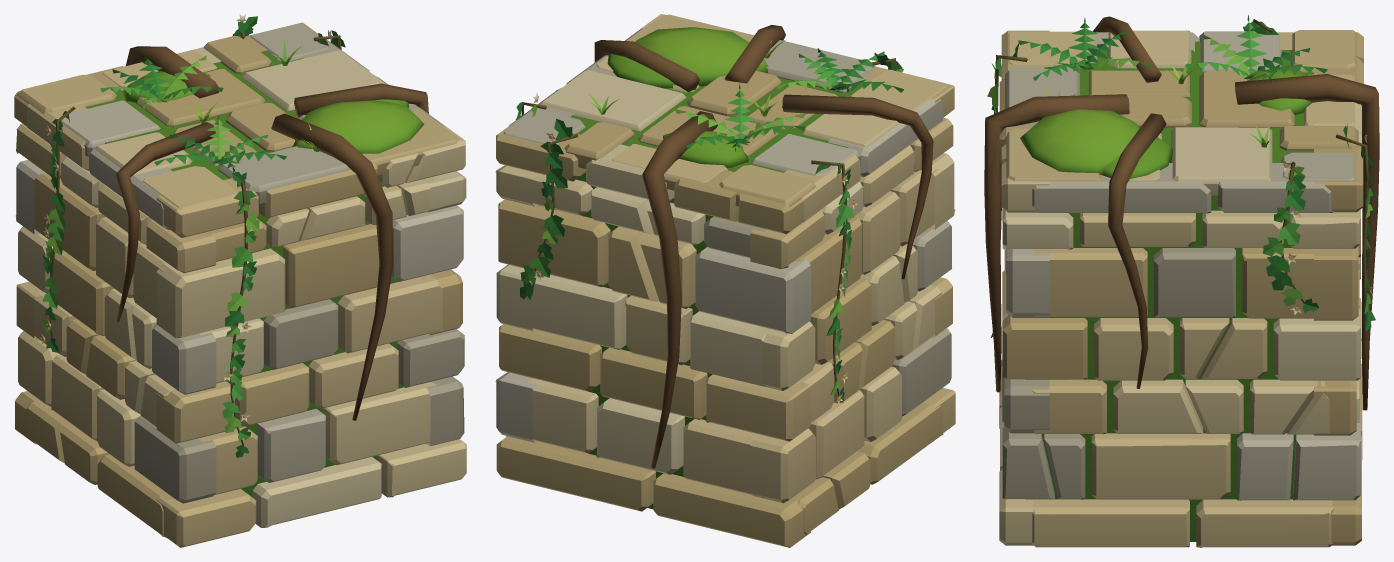
The model's file is wall_c.fbx.
3 views of the same model, side by side, from view 1: azimuth 30°, elevation 25°; view 2: azimuth 150°, elevation 25°; view 3: azimuth 270°, elevation 25° (orthographic). The views are drawn at different scales.
Parts seen in each view (by area): view 1: wall_c; view 2: wall_c; view 3: wall_c.
Boxes of the visible parts, <box> form: wall_c: <box>14,14,466,547</box>; wall_c: <box>495,14,955,547</box>; wall_c: <box>984,15,1379,547</box>.
Size of the model in its own units: 4 by 4.5 by 4.
